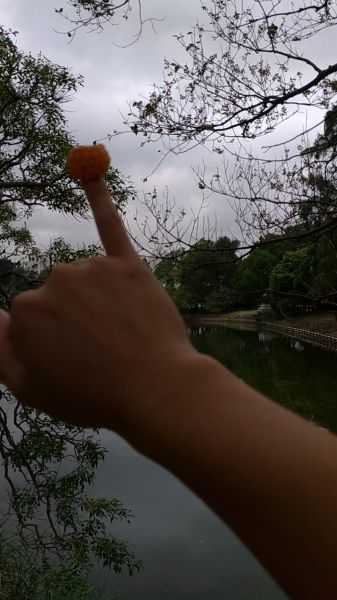eggs: (60, 143, 114, 179)
